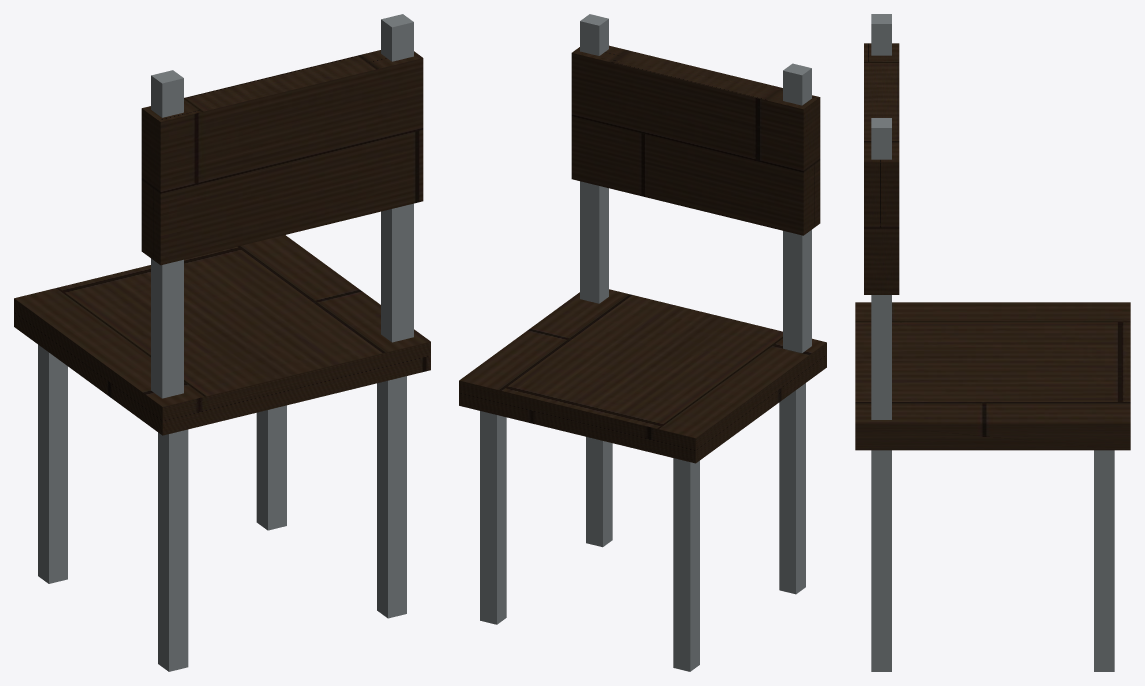
The model's file is chair.glb.
3 views of the same model, side by side, from view 1: azimuth 30°, elevation 25°; view 2: azimuth 150°, elevation 25°; view 3: azimuth 270°, elevation 25° (orthographic). The views are drawn at different scales.
Parts seen in each view (by area): view 1: Chair seat, Chair back, Chair leg, Chair leg.002, Chair leg.001, Chair upright, Chair upright.001, Chair leg.003; view 2: Chair seat, Chair back, Chair leg.001, Chair leg.003, Chair leg, Chair upright, Chair upright.001, Chair leg.002; view 3: Chair seat, Chair back, Chair leg.002, Chair leg.003, Chair upright.001, Chair upright.
Part boxes in pixels (bbox=[...]): Chair seat: bbox=[14, 235, 430, 435]; Chair back: bbox=[141, 50, 423, 265]; Chair leg: bbox=[158, 429, 188, 671]; Chair leg.002: bbox=[377, 376, 406, 618]; Chair leg.001: bbox=[38, 344, 67, 583]; Chair upright: bbox=[151, 70, 183, 398]; Chair upright.001: bbox=[381, 14, 413, 342]; Chair leg.003: bbox=[256, 405, 286, 530]; Chair seat: bbox=[459, 289, 826, 463]; Chair back: bbox=[571, 45, 820, 235]; Chair leg.001: bbox=[673, 458, 699, 671]; Chair leg.003: bbox=[480, 411, 506, 624]; Chair leg: bbox=[779, 383, 805, 594]; Chair upright: bbox=[783, 63, 811, 352]; Chair upright.001: bbox=[580, 14, 608, 303]; Chair leg.002: bbox=[586, 437, 612, 547]; Chair seat: bbox=[855, 302, 1130, 450]; Chair back: bbox=[864, 43, 899, 294]; Chair leg.002: bbox=[871, 450, 891, 671]; Chair leg.003: bbox=[1094, 450, 1114, 671]; Chair upright.001: bbox=[871, 118, 891, 419]; Chair upright: bbox=[871, 14, 891, 55].
Size of the model in its own units: 0.49 by 1.03 by 0.47.
Materials: 2 (1 with a texture image).
